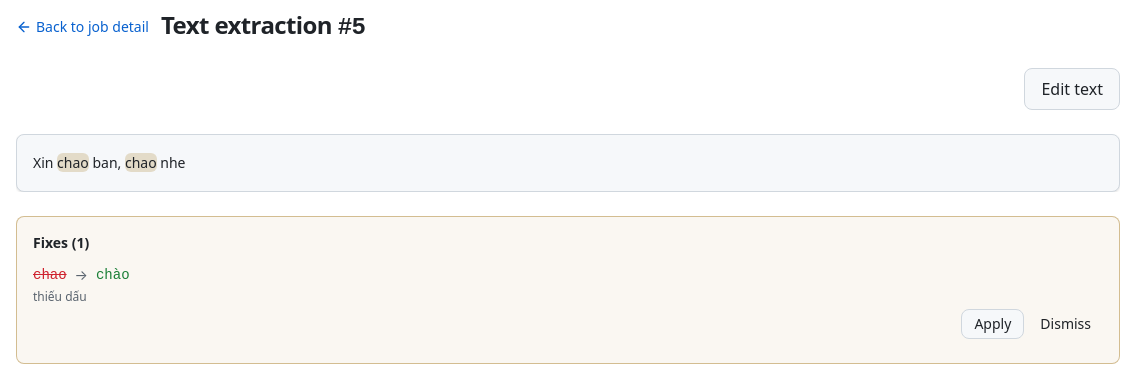
Test: Escape closes the popover (a11y)
Click the 1st button "chao" at (73, 163), box [57, 151, 89, 175]
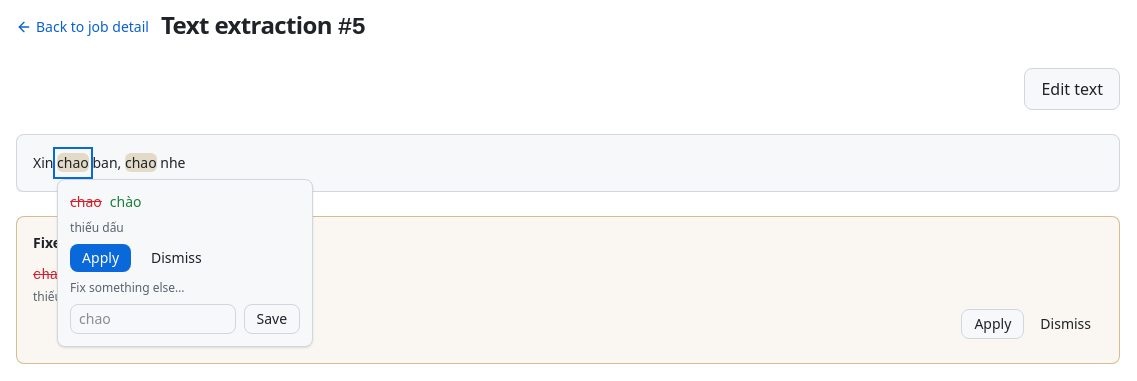
Result: the element with test id "suggestion-popover-11" is shown at [57, 179, 313, 347]
Press Escape
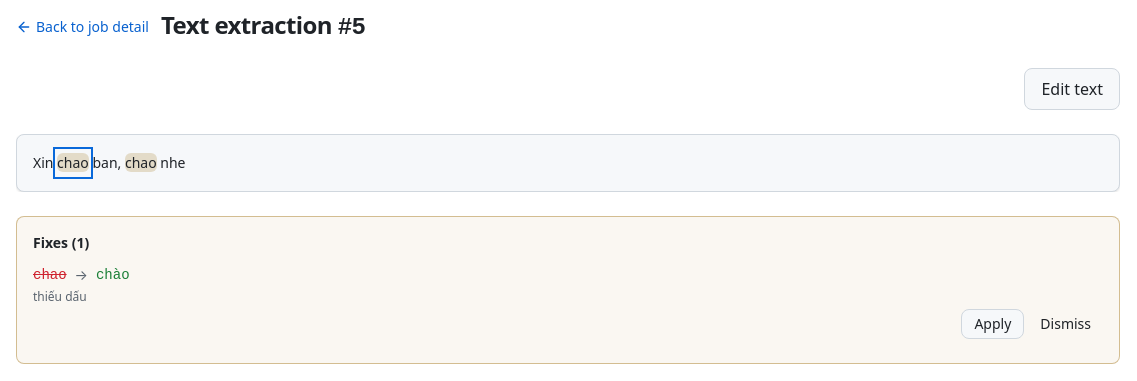
Result: the element with test id "suggestion-popover-11" is gone
